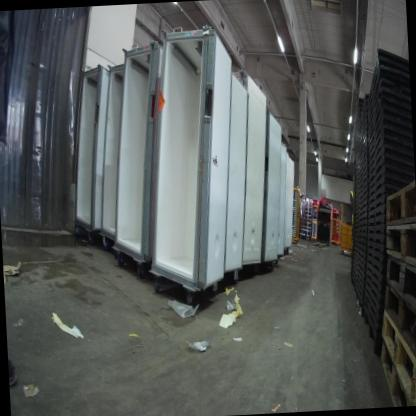pallet: (378, 308, 416, 405), (382, 278, 416, 370), (383, 250, 416, 316), (384, 218, 416, 275), (380, 338, 407, 405), (385, 177, 416, 227)
pallet_truck: (310, 199, 337, 254)
